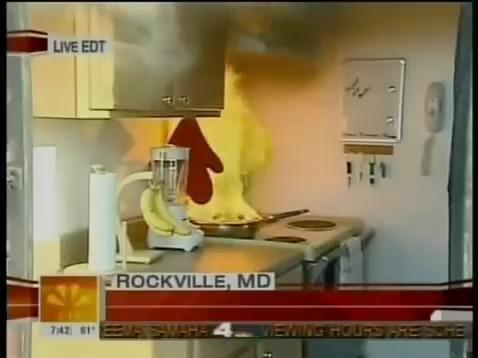fire: (169, 61, 265, 227)
